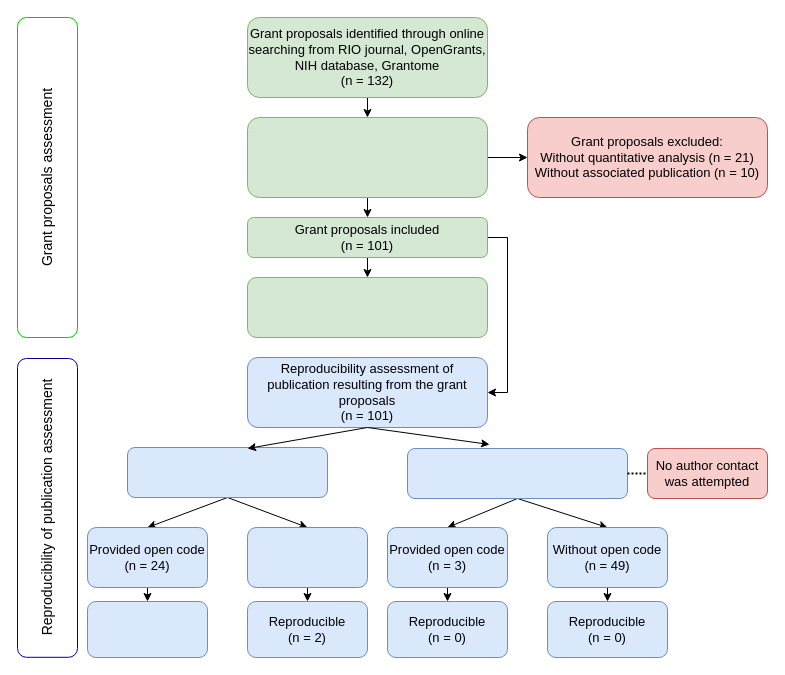
Image size: 785x675. Some labels were removed from this diagram. Each missing label, with the centre of its shape:
"Grant proposals assessment by mock grant referees in two groups" goes at (x=367, y=307).
"Grant proposals screened (n = 132)" goes at (x=367, y=157).
"Publication with provided open data (n =50)" goes at (x=227, y=472).
"Publication without provided open data (n =51)" goes at (x=517, y=473).
"Reproducible (n = 5)" goes at (x=147, y=629).
"Without open code (n = 26)" goes at (x=307, y=557).
